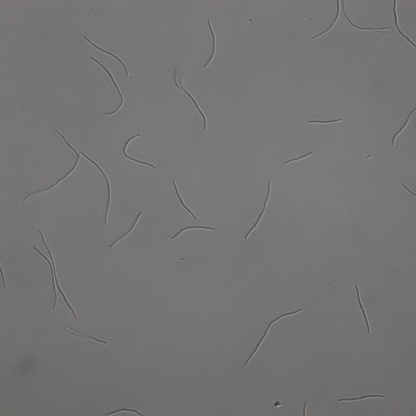Sensitive: (25, 129, 80, 200), (32, 230, 76, 318), (245, 309, 301, 364), (83, 152, 111, 224), (92, 57, 124, 116), (174, 78, 208, 129), (85, 35, 128, 74), (244, 181, 270, 237), (343, 2, 391, 31), (122, 134, 157, 169), (393, 1, 416, 47), (314, 1, 342, 38), (112, 211, 141, 245), (173, 181, 197, 219), (392, 108, 416, 144), (67, 326, 106, 342), (204, 19, 217, 66), (356, 285, 369, 331), (173, 224, 215, 238), (339, 392, 385, 402), (285, 149, 313, 163), (103, 408, 145, 416), (308, 116, 343, 125)
